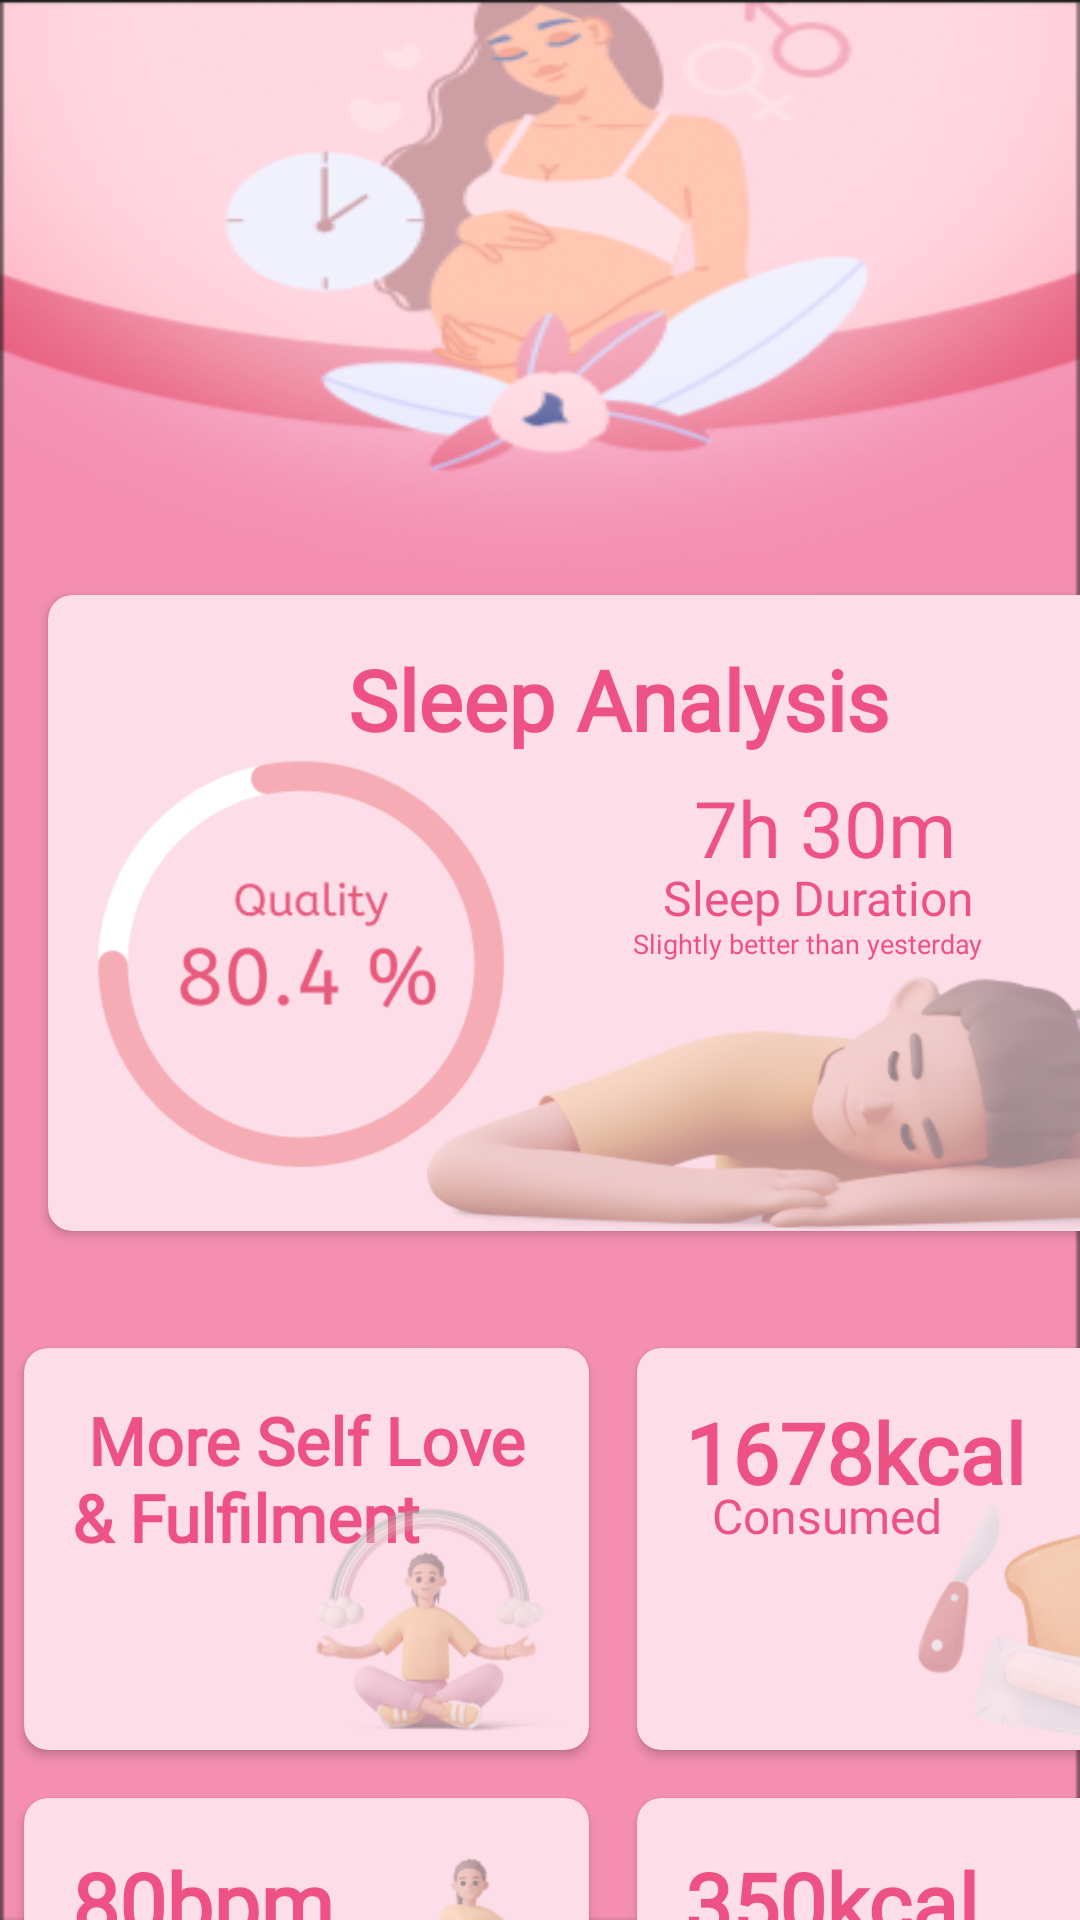

Locate icon controls on the screen. Image size 1080*1920, boxes as (x1, y1, x2, y2).
mental health graphic: (316, 1498, 536, 1730)
